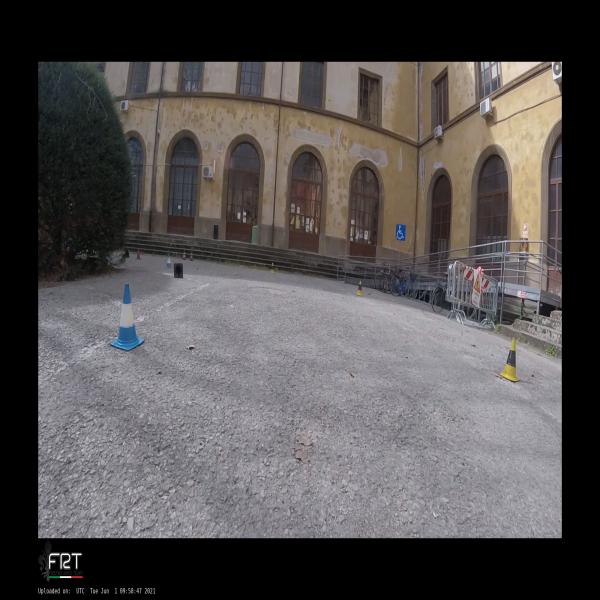blue_cone: (110, 283, 145, 352), (165, 253, 172, 269)
large_orange_cone: (189, 251, 194, 262), (181, 250, 186, 260)
unknown_cone: (173, 263, 184, 278), (135, 248, 142, 260)
yellow_cone: (498, 338, 520, 382), (356, 280, 364, 296), (269, 262, 275, 274)
